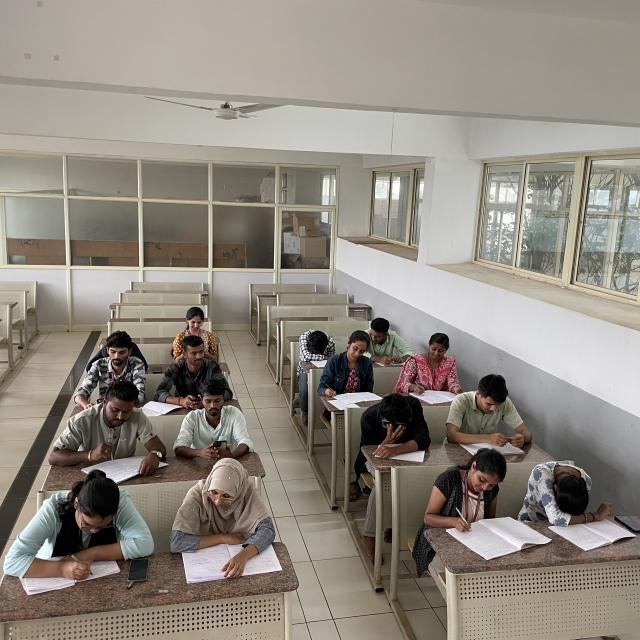Reading: (42, 379, 165, 481), (171, 458, 275, 573), (418, 447, 530, 538), (444, 374, 534, 450), (395, 322, 479, 402)
Sleeping: (518, 452, 616, 526), (289, 323, 340, 380)
Using Phone: (166, 379, 258, 464), (158, 335, 232, 410), (355, 389, 432, 453)
Writing: (3, 472, 151, 578), (317, 329, 384, 406), (354, 314, 414, 368)
